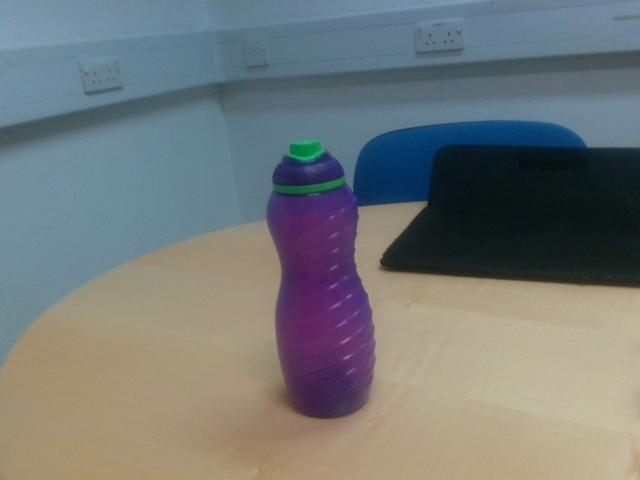bottle: (266, 139, 376, 420)
